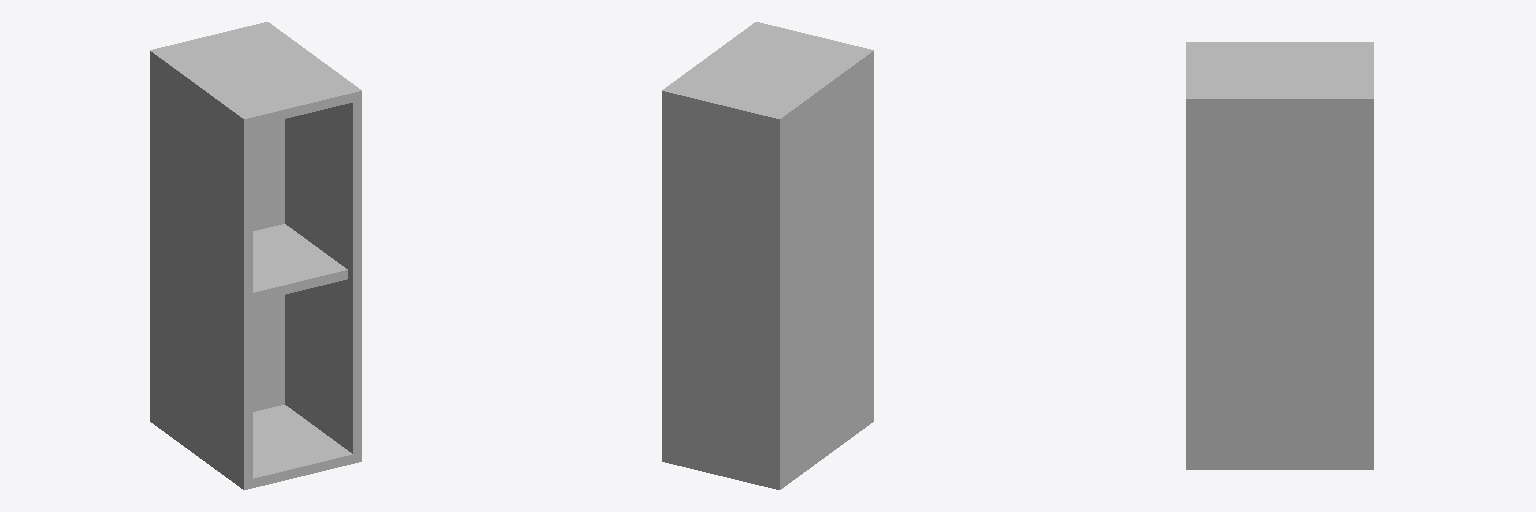
File: Taquilla sin cerrar.obj
The picture shows the model from 3 angles: view 1: azimuth 30°, elevation 25°; view 2: azimuth 150°, elevation 25°; view 3: azimuth 270°, elevation 25°; orthographic projection.
Visible parts, largest first — view 1: object 1; view 2: object 1; view 3: object 1.
Boxes of the visible parts, box(x1,y1,x2,y2) form: object 1: box(150, 22, 361, 489); object 1: box(662, 22, 873, 489); object 1: box(1186, 42, 1373, 469).
Size of the model in its own units: 1.3 by 3.9 by 1.8.